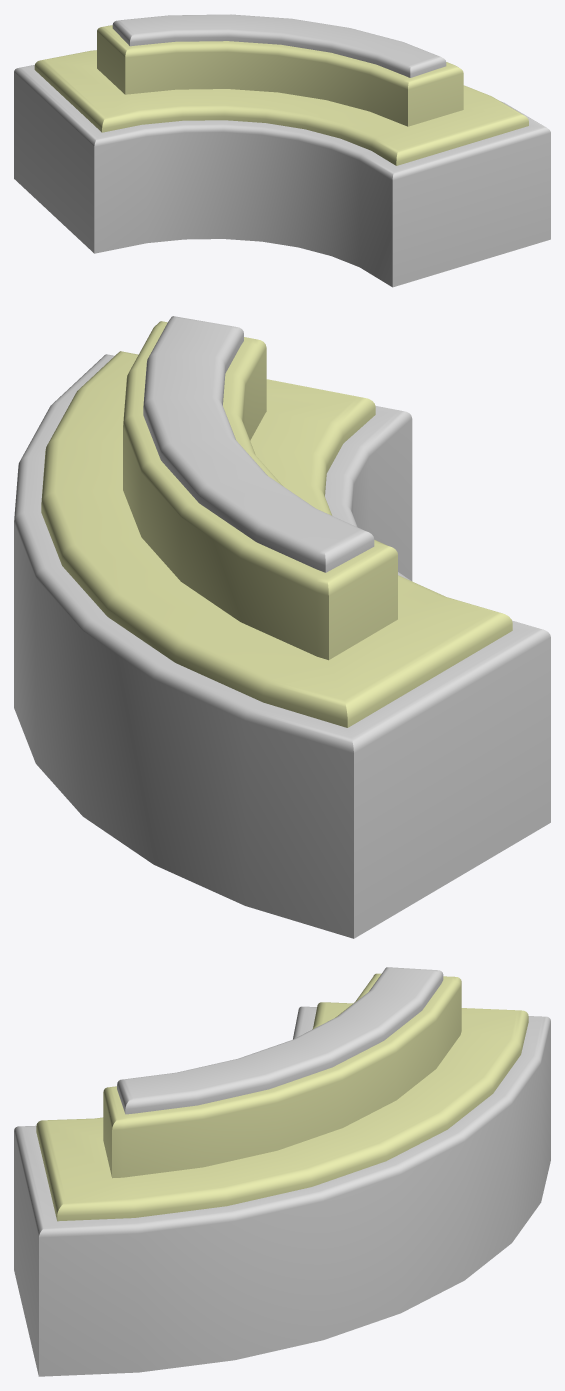
The model's file is sitting_2.fbx.
3 views of the same model, one above another, from view 1: azimuth 30°, elevation 25°; view 2: azimuth 150°, elevation 25°; view 3: azimuth 270°, elevation 25° (orthographic). The views are drawn at different scales.
Visible parts, largest first — view 1: Cylinder; view 2: Cylinder; view 3: Cylinder.
Part boxes in pixels (x1,y1,x2,y2): Cylinder: [14, 14, 550, 287]; Cylinder: [14, 316, 550, 938]; Cylinder: [14, 967, 550, 1376].
Size of the model in its own units: 31.74 by 14.94 by 31.74.
